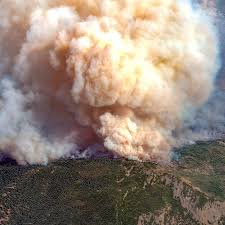smoke: (1, 1, 225, 159)
